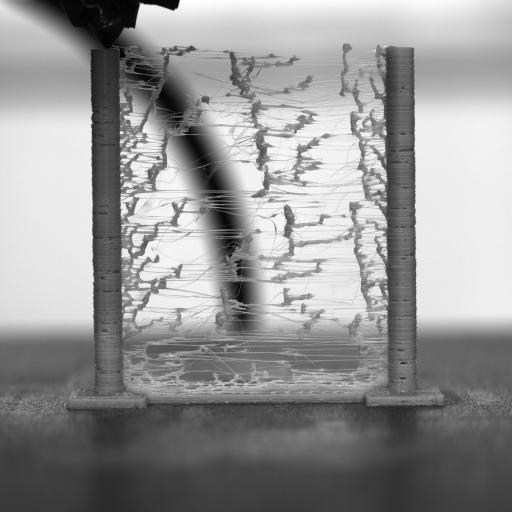spaghetti_and_stringing: (118, 48, 346, 370)
